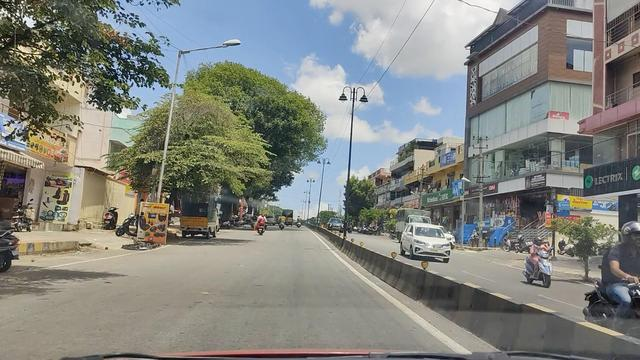HMV: (181, 191, 212, 240)
